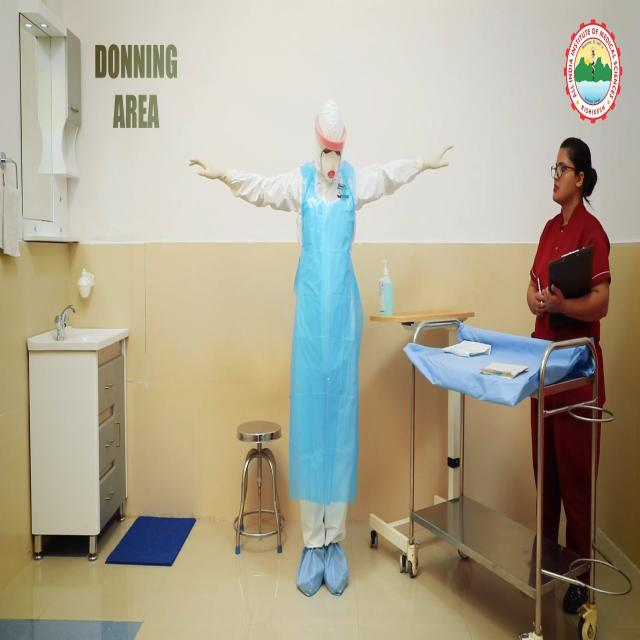Gloves: (417, 132, 454, 187), (186, 151, 232, 193)
